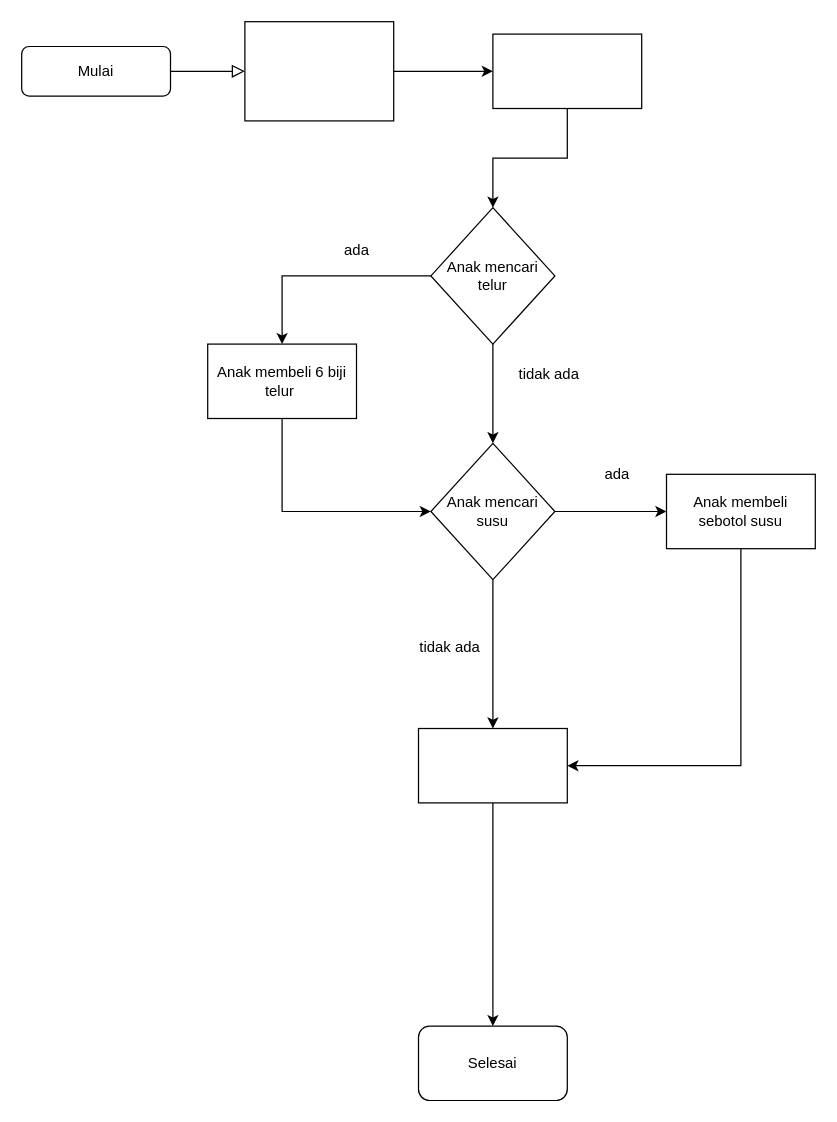
This 837x1122 diagram has some shape labels left out. The shapes that lost their labels are listed below. From the top down, each one's box as (x1, y1, x2, y2) in pixels, then its label:
(244, 20, 394, 121): Ibu memberikan instruksi untuk membeli 1 botol susu serta 6 biji telur
(492, 33, 642, 108): Anak berangkat ke toko
(417, 727, 567, 803): Anak menyampaikan hasil kepada ibu
